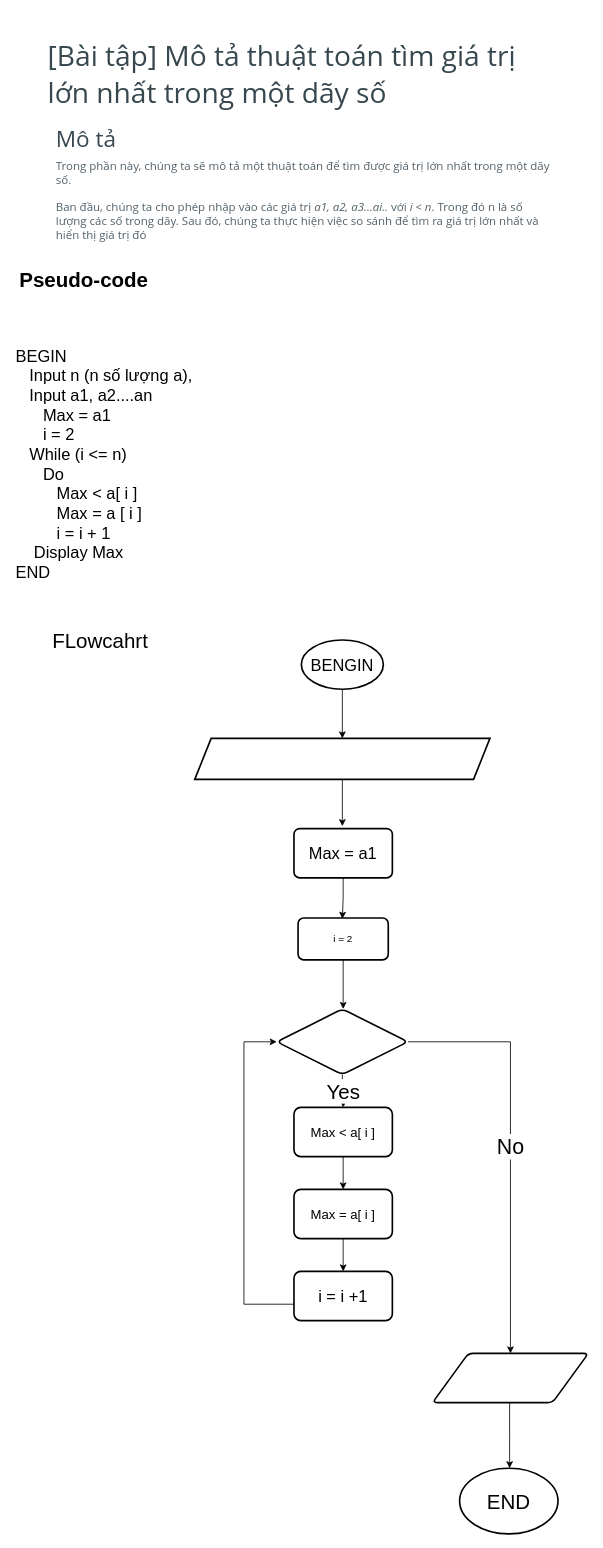
The diagram is 603 pixels wide and 1548 high, and some of its shapes have lost their labels. The centre of each missing label's shape, as x and y in pixels:
"display MAX" goes at (510,1377).
"i <= n" goes at (342,1041).
"Input n(số lượng a), a1,a2,a3,..,a[n]" goes at (342,758).
